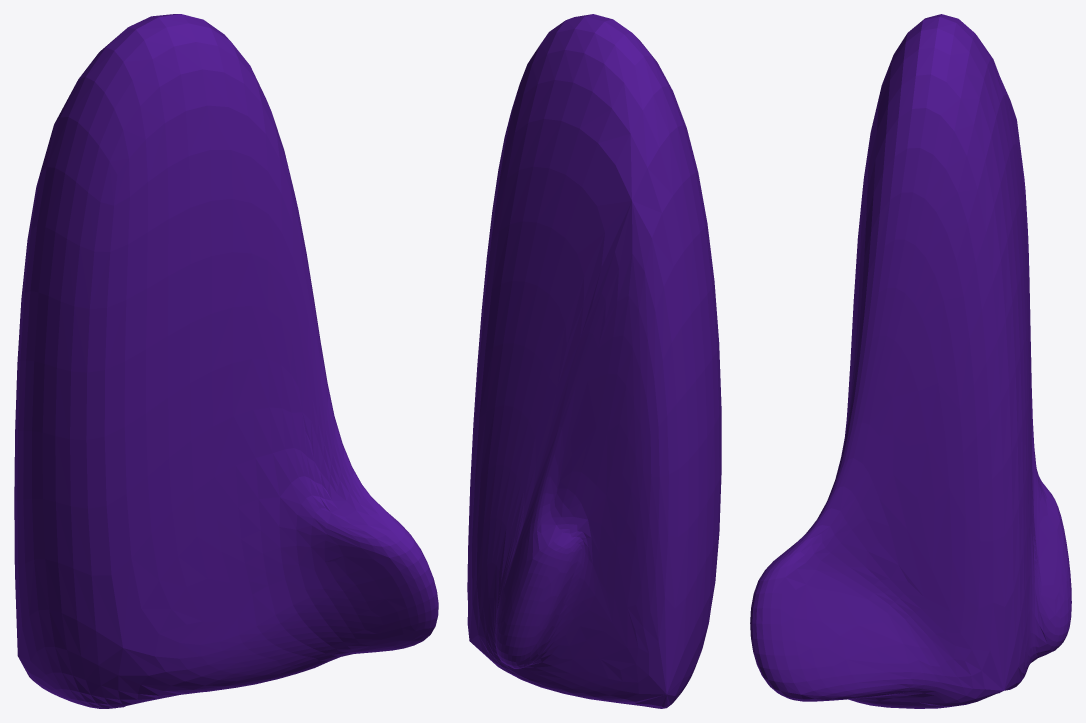
The picture shows the model from 3 angles, left to right: view 1: azimuth 30°, elevation 25°; view 2: azimuth 150°, elevation 25°; view 3: azimuth 270°, elevation 25°; orthographic projection. The views are drawn at different scales.
Parts seen in each view (by area): view 1: 826_Cube.3328; view 2: 826_Cube.3328; view 3: 826_Cube.3328.
Boxes of the visible parts, x1,y1,x2,y2 form: 826_Cube.3328: (14, 14, 438, 708); 826_Cube.3328: (467, 14, 721, 708); 826_Cube.3328: (750, 14, 1071, 708).
Size of the model in its own units: 5.39 by 11.45 by 5.02.
